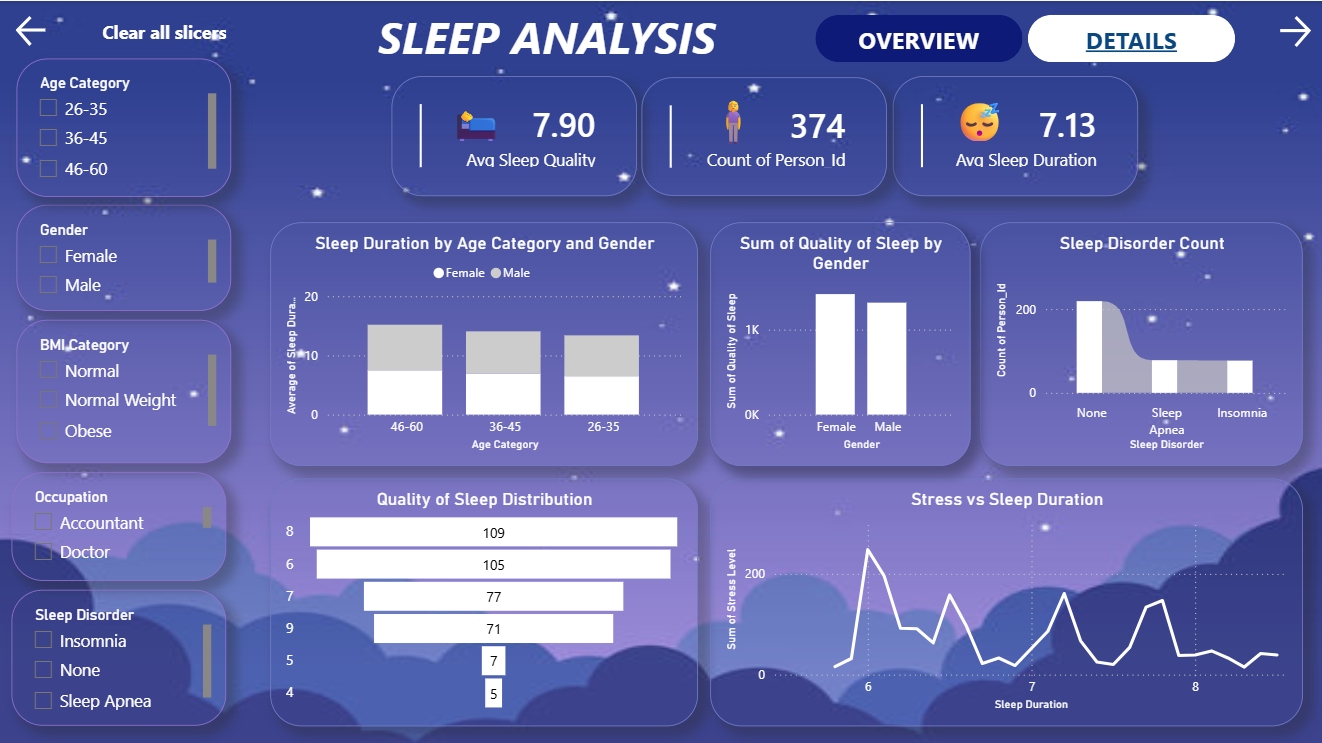

What the dashboard file says about the page in this screenshot:
{"tool":"powerbi","page":{"name":"Page 2","canvas":[1280,720],"ordinal":1},"visuals":[{"type":"shape","box":[787.8,13.3,200.3,45.8],"z":0},{"type":"shape","box":[992.9,13.3,200.3,45.8],"z":1000},{"type":"cardVisual","fields":{"Data":["Avg(Sheet1.Sleep Duration)"]},"box":[862.6,72.4,236.5,115.8],"z":2000},{"type":"cardVisual","fields":{"Data":["Avg(Sheet1.Avg Sleep Quality)"]},"box":[378.8,72.4,236.5,115.8],"z":3000},{"type":"cardVisual","fields":{"Data":["CountNonNull(Sheet1.Person_Id)"]},"box":[620.1,73.6,236.5,114.6],"z":4000},{"type":"textbox","box":[429.5,85.7,67.6,60.3],"z":5000},{"type":"textbox","box":[915.2,85.4,55.5,62.7],"z":6000},{"type":"actionButton","box":[12.1,9.7,43.4,38.6],"z":7000},{"type":"slicer","fields":{"Values":["Sheet1.Gender"]},"box":[16.9,196.6,207.5,102.5],"z":8000},{"type":"actionButton","box":[1230.6,9.7,42.2,39.8],"z":9000},{"type":"actionButton","box":[78.4,4.4,162.5,49.3],"z":10000},{"type":"slicer","fields":{"Values":["Sheet1.BMI Category"]},"box":[16.9,307.6,207.5,138.7],"z":11000},{"type":"slicer","fields":{"Values":["Sheet1.Occupation"]},"box":[12.1,454.8,207.5,105],"z":12000},{"type":"slicer","fields":{"Values":["Sheet1.Sleep Disorder"]},"box":[12.1,568.2,207.5,131.5],"z":13000},{"type":"slicer","fields":{"Values":["Sheet1.Age Category"]},"box":[16.9,55.5,207.5,133.9],"z":14000},{"type":"columnChart","title":"Sleep Duration by Age Category and Gender","fields":{"Y":["Avg(Sheet1.Sleep Duration)"],"Series":["Sheet1.Gender"],"Category":["Sheet1.Age Category"]},"box":[261.8,213.5,412.6,235.3],"z":15000},{"type":"funnel","title":"Quality of Sleep Distribution","fields":{"Category":["Sheet1.Quality of Sleep"],"Y":["CountNonNull(Sheet1.Person_Id)"]},"box":[261.8,460.9,412.6,238.9],"z":16000},{"type":"ribbonChart","title":"Sleep Disorder Count","fields":{"Category":["Sheet1.Sleep Disorder"],"Y":["CountNonNull(Sheet1.Person_Id)"]},"box":[947.1,213.5,311.3,235.3],"z":17000},{"type":"textbox","box":[360.7,0,392.1,67.6],"z":18000},{"type":"lineChart","title":"Stress vs Sleep Duration","fields":{"Category":["Sheet1.Sleep Duration"],"Y":["Sum(Sheet1.Stress Level)"]},"box":[686.5,460.9,571.9,238.9],"z":19000},{"type":"columnChart","fields":{"Category":["Sheet1.Gender"],"Y":["Sum(Sheet1.Quality of Sleep)"]},"box":[686.5,213.5,250.9,235.3],"z":20000},{"type":"textbox","box":[674.4,80.8,67.6,72.4],"z":21000},{"type":"actionButton","box":[360.7,13.3,340.2,44.6],"z":22000}]}

Visuals, with their boxes in screenshot pixels (x1, y1, x2, y2), scaled from the page's 1280x720 canvas onto the 1322x743 screenshot:
shape: region(814, 14, 1021, 61)
shape: region(1025, 14, 1232, 61)
cardVisual - Avg(Sheet1.Sleep Duration): region(891, 75, 1135, 194)
cardVisual - Avg(Sheet1.Avg Sleep Quality): region(391, 75, 635, 194)
cardVisual - CountNonNull(Sheet1.Person_Id): region(640, 76, 885, 194)
textbox: region(444, 88, 513, 151)
textbox: region(945, 88, 1003, 153)
actionButton: region(12, 10, 57, 50)
slicer - Sheet1.Gender: region(17, 203, 232, 309)
actionButton: region(1271, 10, 1315, 51)
actionButton: region(81, 5, 249, 55)
slicer - Sheet1.BMI Category: region(17, 317, 232, 461)
slicer - Sheet1.Occupation: region(12, 469, 227, 578)
slicer - Sheet1.Sleep Disorder: region(12, 586, 227, 722)
slicer - Sheet1.Age Category: region(17, 57, 232, 195)
"Sleep Duration by Age Category and Gender" columnChart: region(270, 220, 697, 463)
"Quality of Sleep Distribution" funnel: region(270, 476, 697, 722)
"Sleep Disorder Count" ribbonChart: region(978, 220, 1300, 463)
textbox: region(373, 0, 778, 70)
"Stress vs Sleep Duration" lineChart: region(709, 476, 1300, 722)
columnChart - Sheet1.Gender x Sum(Sheet1.Quality of Sleep): region(709, 220, 968, 463)
textbox: region(697, 83, 766, 158)
actionButton: region(373, 14, 724, 60)
